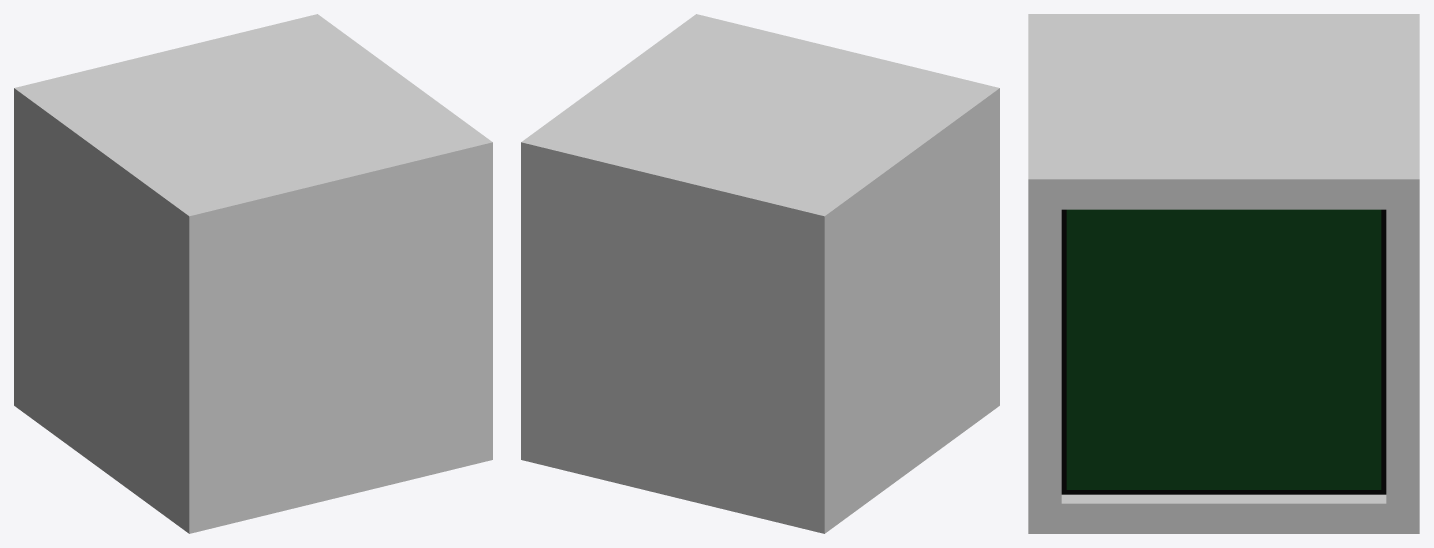
File: MOD_Timer.fbx
3 renders of one model, left to right at view 1: azimuth 30°, elevation 25°; view 2: azimuth 150°, elevation 25°; view 3: azimuth 270°, elevation 25°, orthographic. The views are drawn at different scales.
Visible parts, largest first — view 1: Body; view 2: Body; view 3: Body.
Part boxes in pixels (box(x1,y1,x2,y2)): Body: box(14, 14, 492, 533); Body: box(521, 14, 999, 533); Body: box(1028, 14, 1419, 533).
Bounding box in the file's own units: 100 × 100 × 100.
